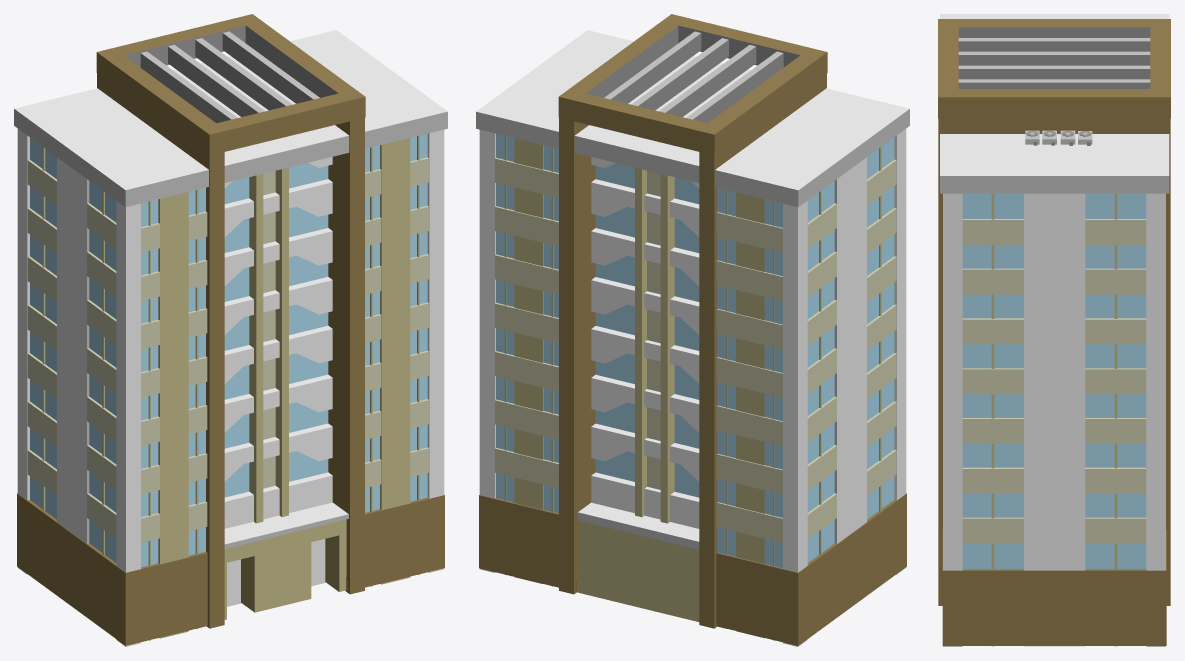
File: house_high_001.fbx
3 views of the same model, side by side, from view 1: azimuth 30°, elevation 25°; view 2: azimuth 150°, elevation 25°; view 3: azimuth 270°, elevation 25° (orthographic). The views are drawn at different scales.
Visible parts, largest first — view 1: house_high_001; view 2: house_high_001; view 3: house_high_001.
Part boxes in pixels (x1=…): house_high_001: x1=14, y1=14, x2=447, y2=646; house_high_001: x1=476, y1=14, x2=909, y2=646; house_high_001: x1=938, y1=14, x2=1170, y2=646.
Size of the model in its own units: 1509 by 2218 by 916.
